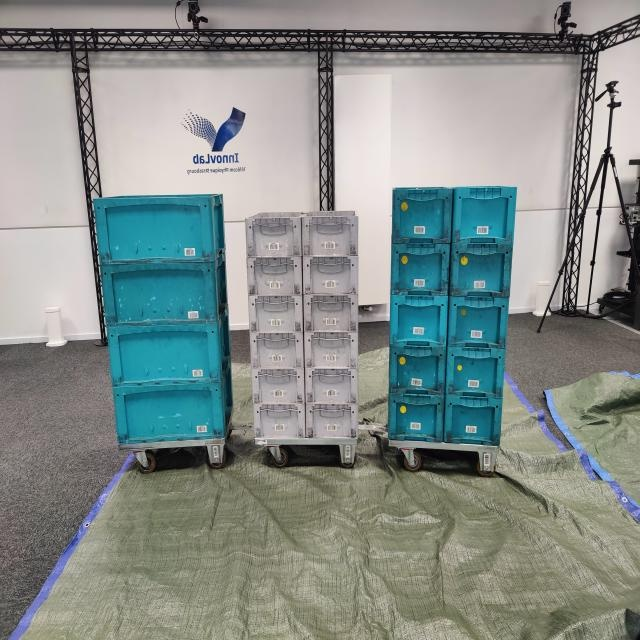Box8G: (244, 210, 302, 261), (301, 208, 358, 259), (247, 291, 304, 335), (245, 256, 304, 297), (304, 256, 361, 297), (248, 332, 306, 371), (304, 366, 360, 406), (251, 367, 306, 407), (304, 296, 360, 333), (252, 405, 306, 442), (303, 404, 359, 438), (304, 334, 358, 369)
BoxB4: (93, 311, 232, 386), (96, 257, 235, 330), (91, 192, 229, 264), (109, 368, 238, 445)
BoxB8: (451, 183, 518, 246), (447, 243, 517, 300), (392, 186, 453, 248), (388, 290, 449, 350), (385, 338, 447, 397), (389, 241, 448, 300), (446, 348, 506, 403), (442, 396, 503, 450), (449, 301, 510, 352), (383, 395, 445, 444)
